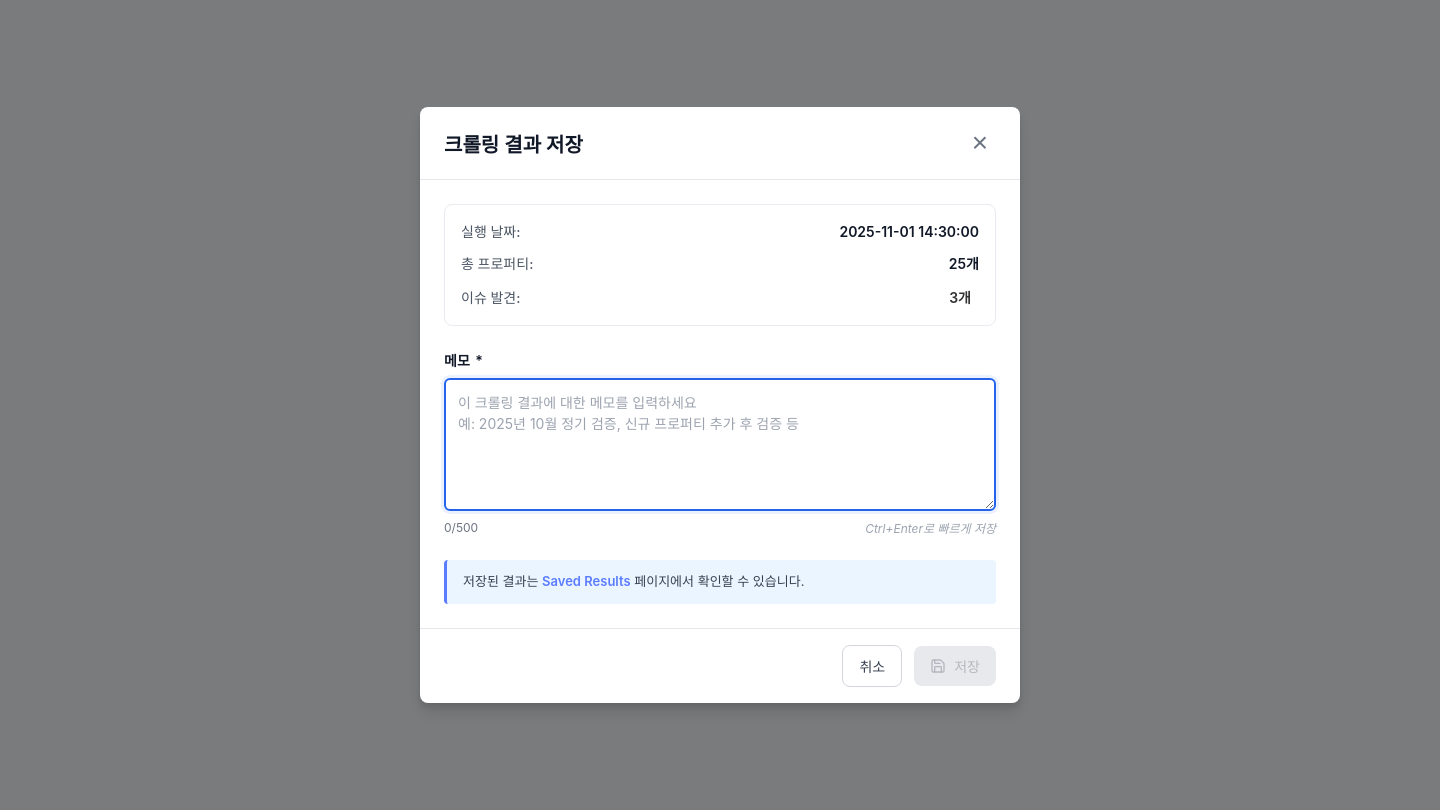
Test case: SaveResultModal Component › Memo Input › should update character counter as user types
In the text box labelled "메모 *": (720, 445) left=444, top=378, right=996, bottom=511, type "Hello"
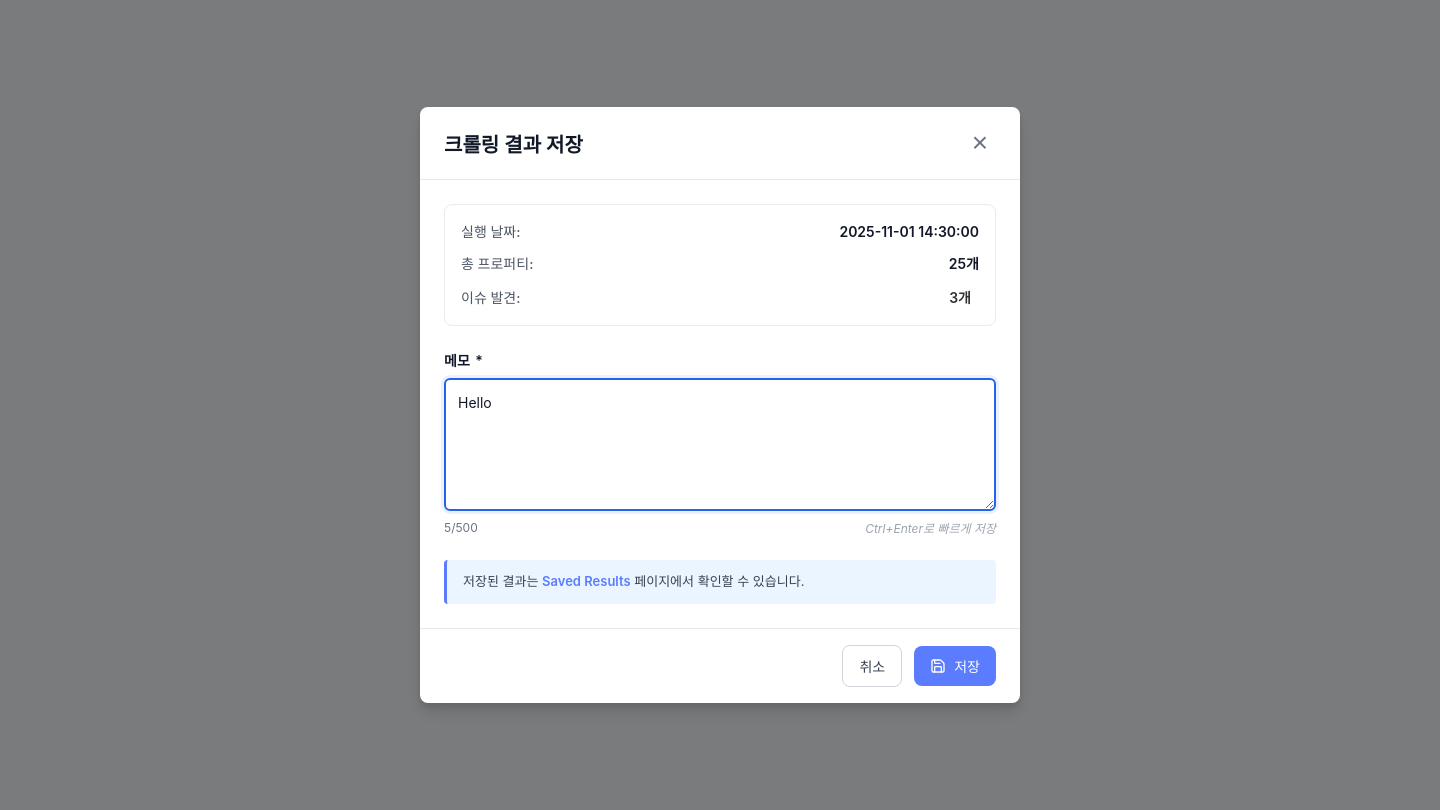
Now the text "5/500" is shown, box left=444, top=520, right=478, bottom=535
Replace the text in the text box labelled "메모 *" with "Hello World": (720, 445) left=444, top=378, right=996, bottom=511
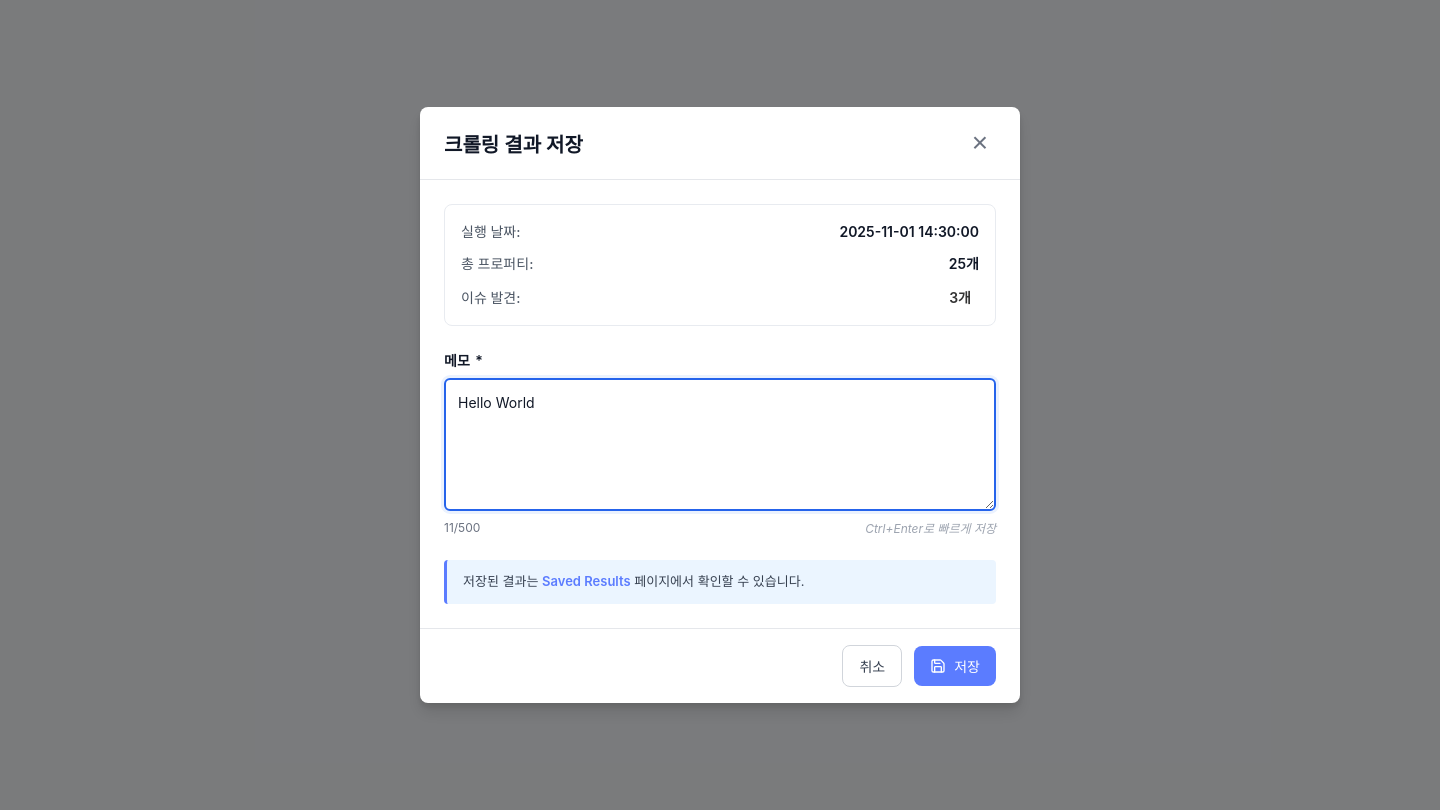
Now the text "11/500" is shown, box left=444, top=520, right=480, bottom=535
